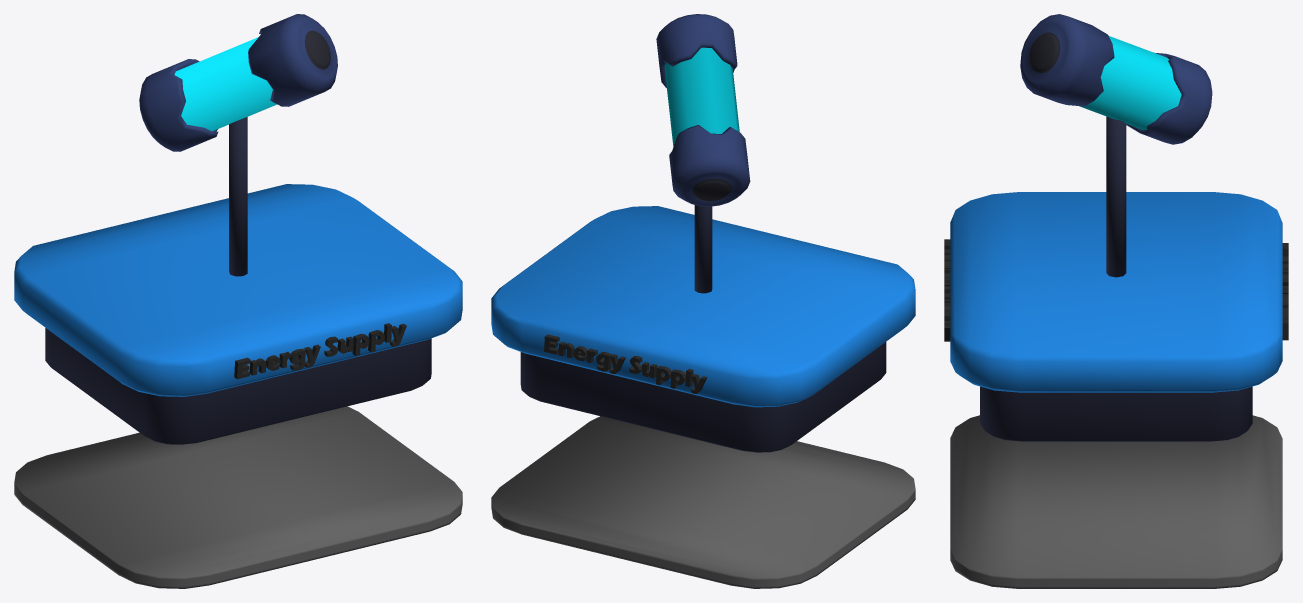
File: CycleEngine_stand_v3.fbx
3 renders of one model, left to right at view 1: azimuth 30°, elevation 25°; view 2: azimuth 150°, elevation 25°; view 3: azimuth 270°, elevation 25°, orthographic. The views are drawn at different scales.
Parts seen in each view (by area): view 1: stand.006, Cylinder.011, stand, bigBottle, bigBottle.001, barre, font; view 2: stand.006, Cylinder.011, stand, bigBottle, bigBottle.001, font.001, barre; view 3: stand.006, Cylinder.011, stand, bigBottle, bigBottle.001, barre, font, font.001.
Boxes of the visible parts, x1,y1,x2,y2 form: stand.006: (14, 184, 462, 396); Cylinder.011: (14, 406, 462, 588); stand: (45, 328, 431, 444); bigBottle: (139, 14, 337, 151); bigBottle.001: (174, 37, 276, 131); barre: (229, 117, 247, 276); font: (234, 323, 406, 379); stand.006: (491, 206, 915, 407); Cylinder.011: (491, 416, 915, 588); stand: (520, 342, 886, 452); bigBottle: (656, 14, 750, 206); bigBottle.001: (664, 47, 739, 146); font.001: (544, 334, 707, 393); barre: (694, 205, 712, 293); stand.006: (950, 192, 1282, 392); Cylinder.011: (950, 415, 1282, 588); stand: (980, 386, 1252, 441); bigBottle: (1020, 14, 1212, 144); bigBottle.001: (1079, 36, 1181, 129); barre: (1106, 116, 1126, 277); font: (944, 239, 950, 341); font.001: (1282, 243, 1288, 340).
Size of the model in its own units: 1238 by 1732 by 1075.
